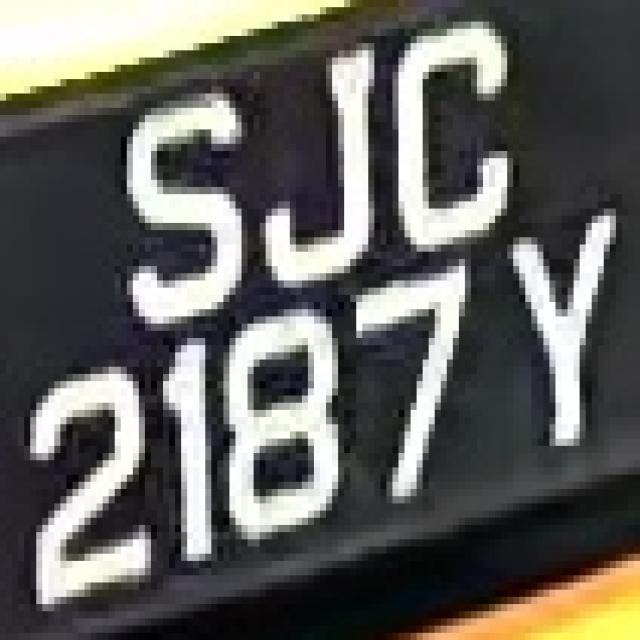1: (151, 302, 223, 597)
2: (12, 359, 163, 633)
7: (362, 252, 489, 518)
8: (218, 324, 344, 546)
C: (374, 7, 526, 266)
J: (230, 43, 398, 324)
S: (96, 65, 254, 331)
Y: (489, 216, 622, 489)
